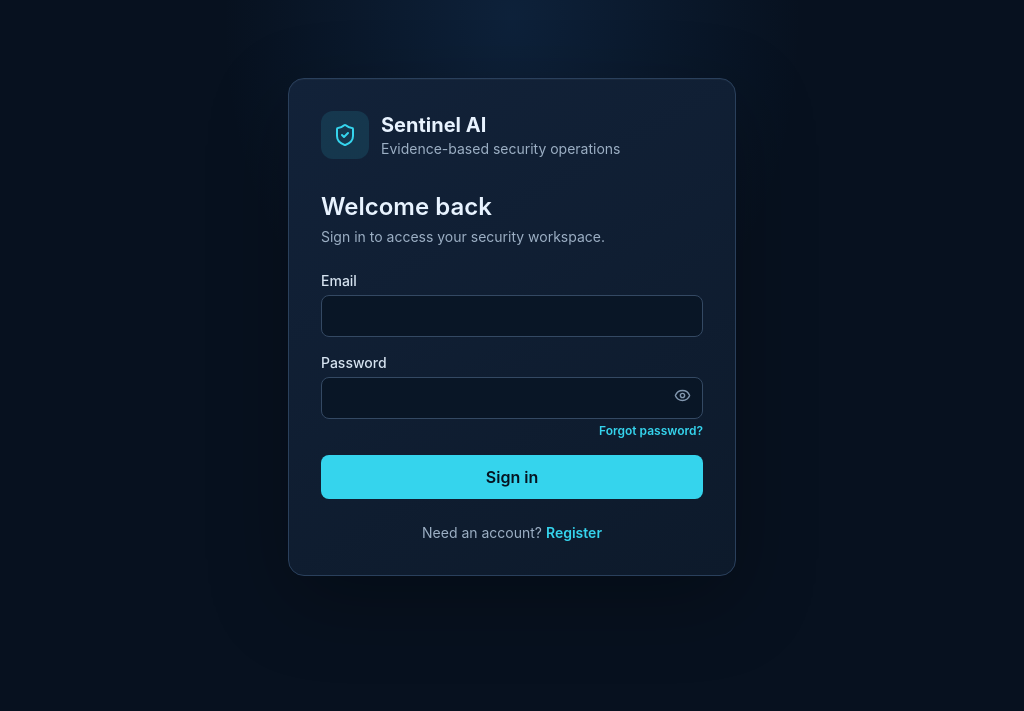
Test: Sentinel AI application shell › lets an unverified existing user verify their phone and resumes authentication
Type "test@example.test" into the field labelled "Email" at (512, 316), box [321,295,703,337]
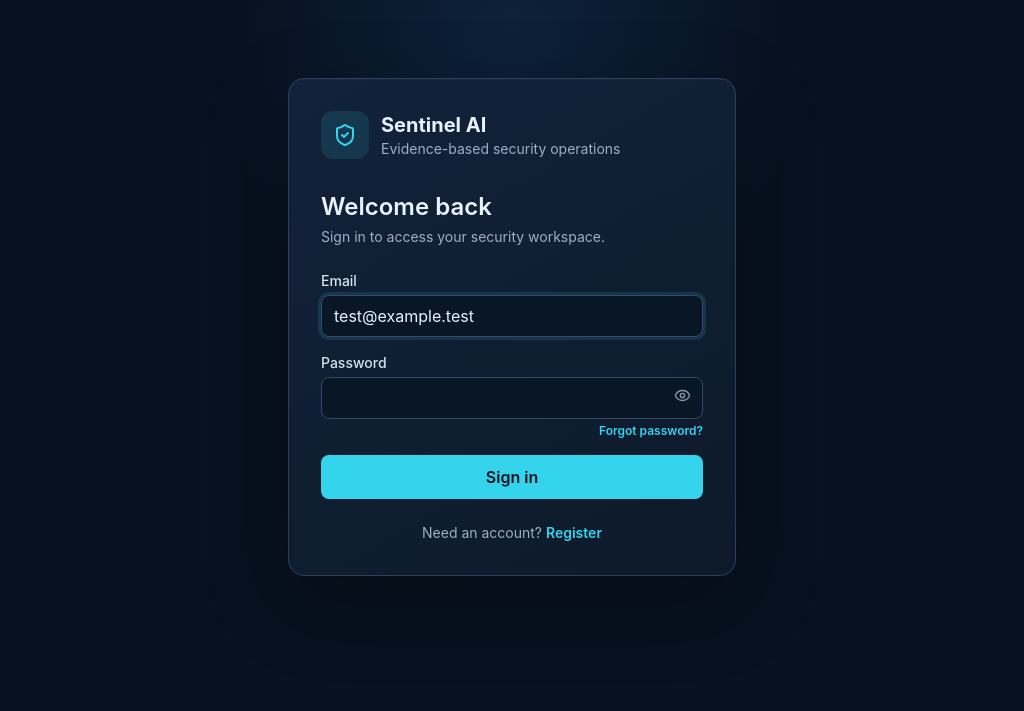
Type "StrongPassword123" into the password field labelled "Password" at (512, 398), box [321,377,703,419]
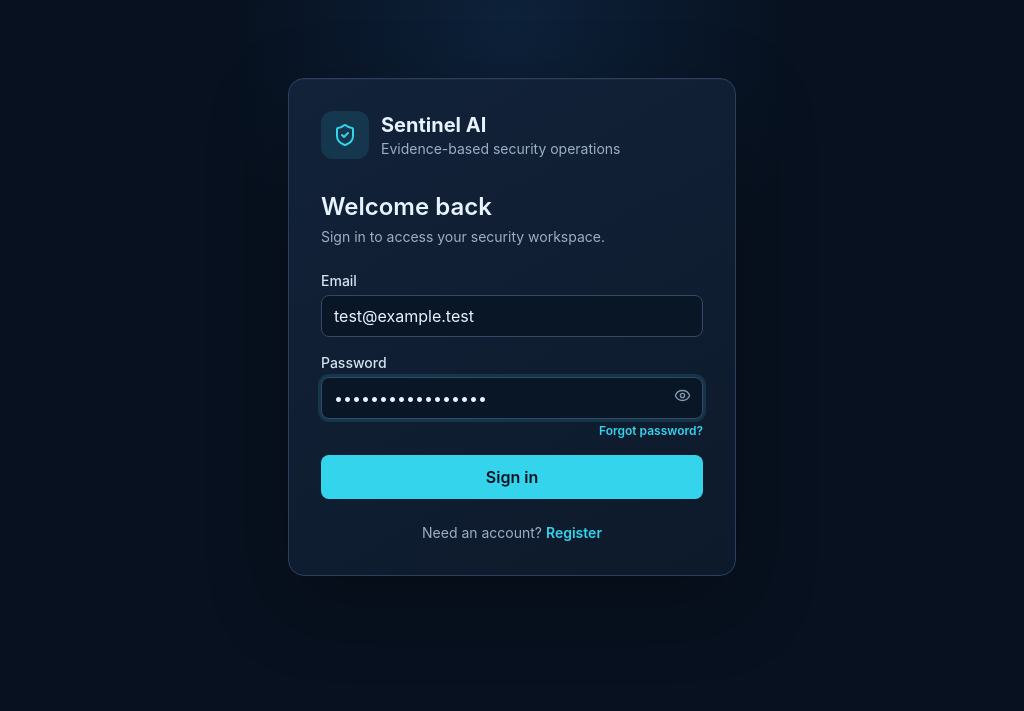
Click the button "Sign in" at (512, 477), box [321,455,703,499]
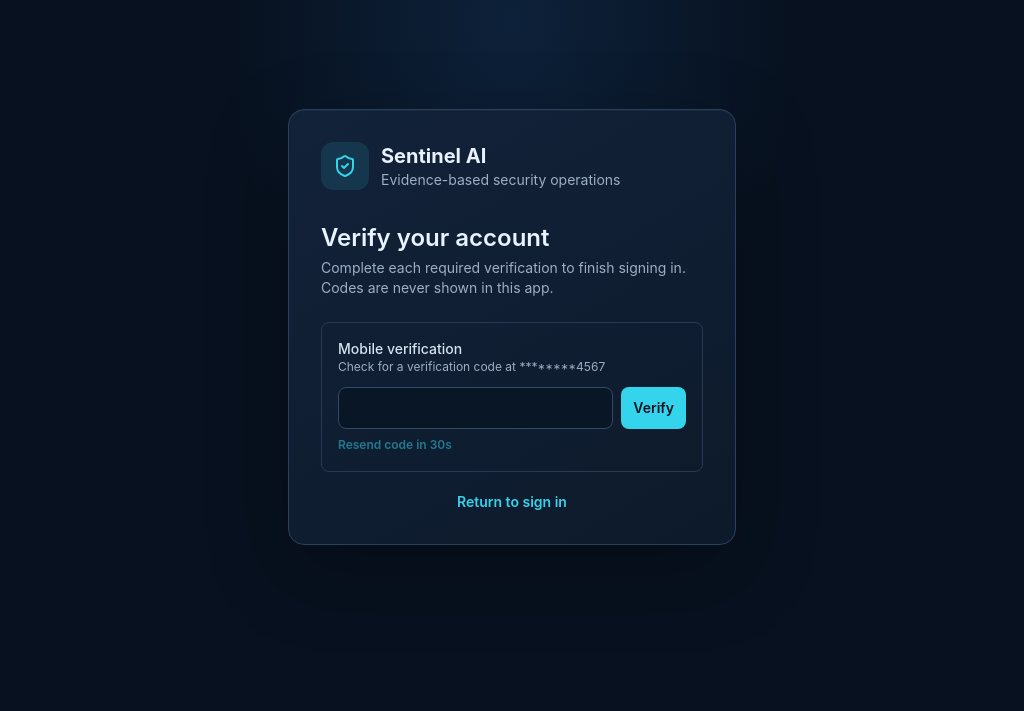
Now the text "Check for a verification code at ********4567" is shown, box [338,359,605,374]
Now the field named "Mobile verification code" is shown
Now the button "Resend code in 30s" is disabled, box [338,437,452,453]
Type "284619" into the field named "Mobile verification code" at (476, 408), box [338,387,613,429]
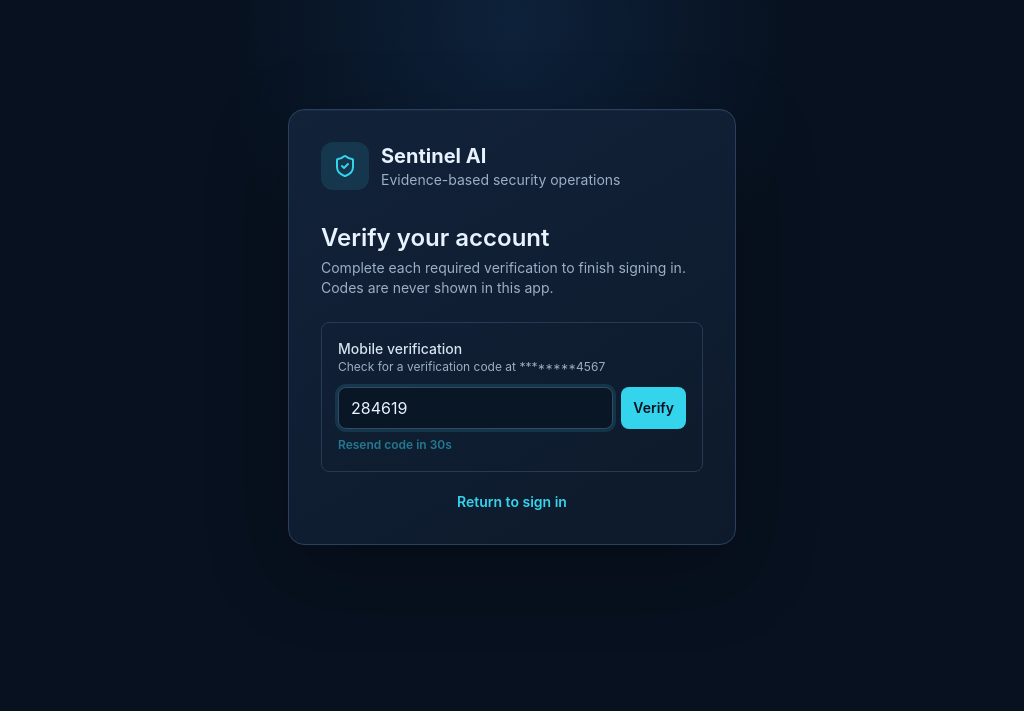
Click the button "Verify" at (654, 408), box [621,387,686,429]
(page scrolled)
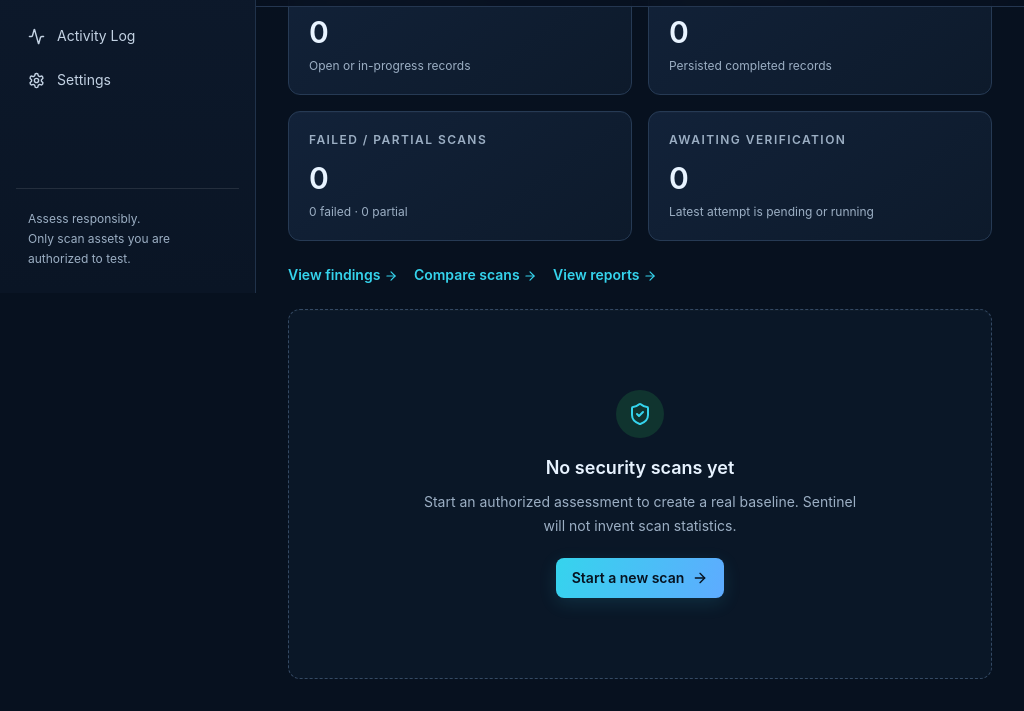
Now the heading "No security scans yet" is shown, box [546,457,734,478]
